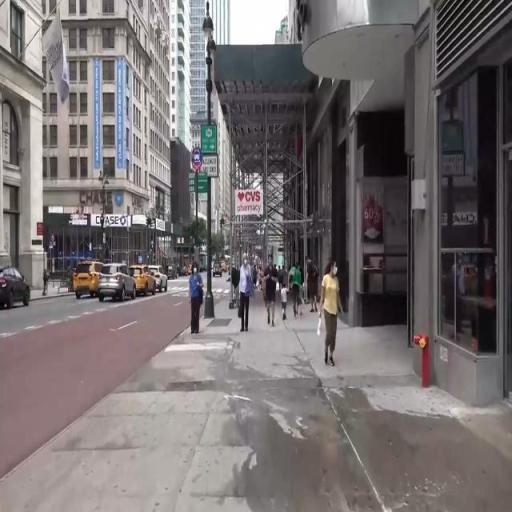person: (322, 261, 343, 367), (189, 262, 207, 341), (240, 252, 254, 335), (267, 256, 281, 333), (307, 257, 320, 312), (292, 262, 302, 323), (230, 263, 242, 305), (282, 283, 288, 317)
